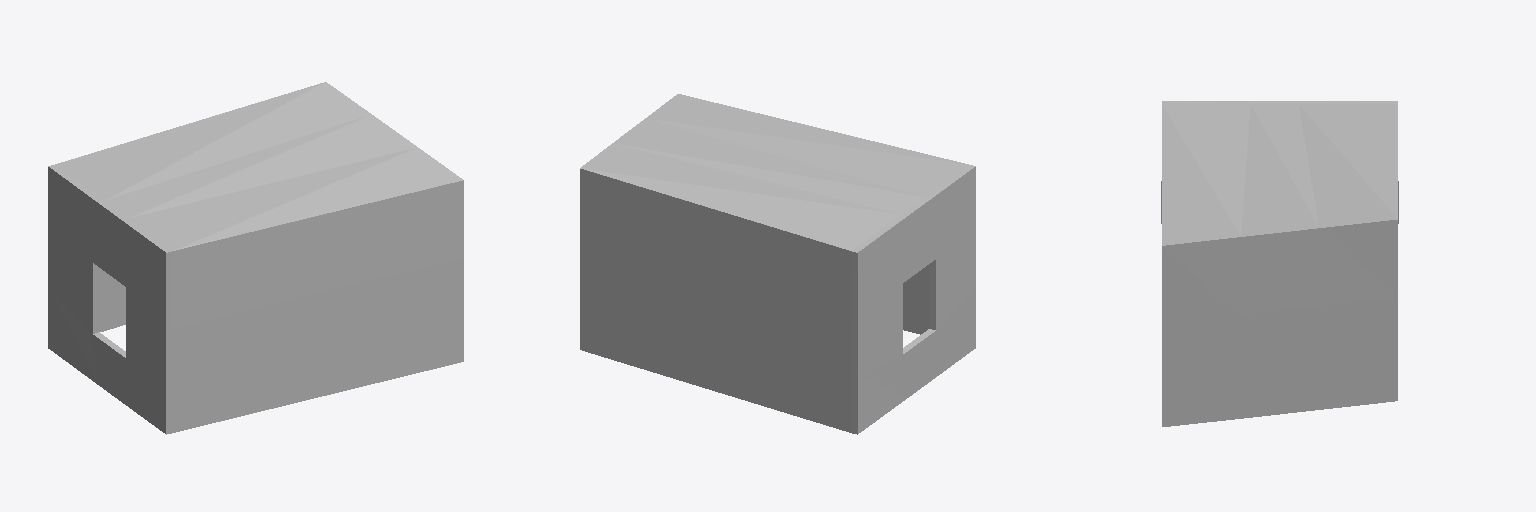
The model's file is room.obj.
3 views of the same model, side by side, from view 1: azimuth 30°, elevation 25°; view 2: azimuth 150°, elevation 25°; view 3: azimuth 270°, elevation 25° (orthographic).
Visible parts, largest first — view 1: Plane; view 2: Plane; view 3: Plane.
Boxes of the visible parts, box(x1,y1,x2,y2) form: Plane: box(48, 82, 463, 434); Plane: box(580, 94, 975, 434); Plane: box(1161, 101, 1398, 426).
Bounding box in the file's own units: 34.16 × 21.79 × 23.53.